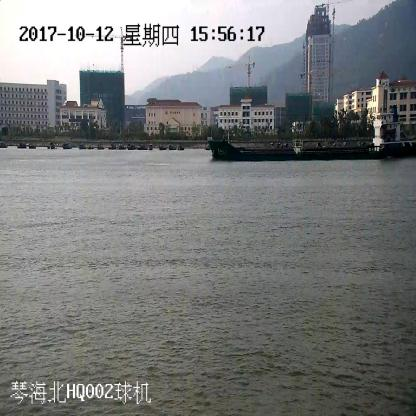Bulk Carrier: (207, 114, 416, 160)
